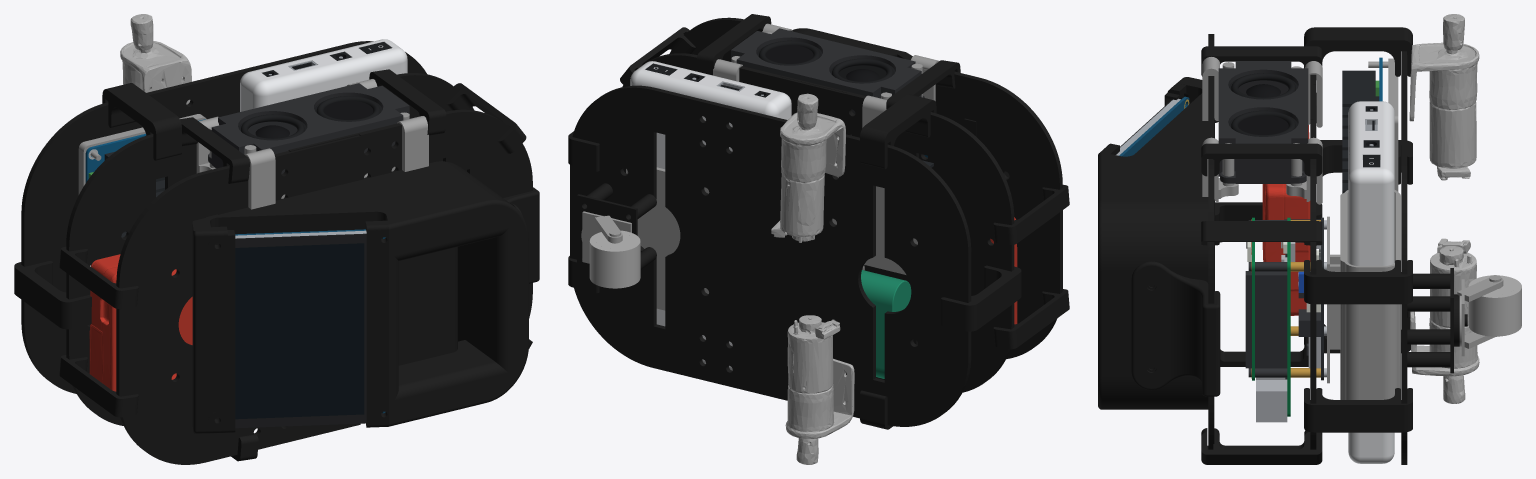
The model's file is chassis_diff_wheel_robot.obj.
The picture shows the model from 3 angles, left to right: view 1: azimuth 30°, elevation 25°; view 2: azimuth 150°, elevation 25°; view 3: azimuth 270°, elevation 25°; orthographic projection. The views are drawn at different scales.
Visible parts, largest first — view 1: 04_Sede_interna_e_battuta_display, Piano_sensori_01, Area_visibile_STIMATA, Piano_sensori_02, Piano_chassis_02, Piano_chassis_03, Guscio_con_due_aperture, Guscio_raccordato_R6_INDICATIVO, Azionamento_mesh_02, Modulo_importato_mesh_03, Distanziale_interpiano_corpo_01, Bande_nere (1) (+18 smaller); view 2: Piano_sensori_03, Piano_sensori_02, Piano_sensori_01, Piano_chassis_02, Azionamento_mesh_01, Azionamento_mesh_02, Guscio_con_due_aperture, Guscio_raccordato_R6_INDICATIVO, Distanziale_interpiano_corpo_01, Distanziale_interpiano_corpo_01:2, Piano_chassis_01, Corpo1:1 (+20 smaller); view 3: 04_Sede_interna_e_battuta_display, Supporto_RealSense_corpo_06, Guscio_raccordato_R6_INDICATIVO, Azionamento_mesh_02, Corpo1:1, Guscio_con_due_aperture, Azionamento_mesh_01, Distanziale_interpiano_corpo_01:4, Distanziale_interpiano_corpo_01:3, Piastra_35_5x41_con_4_distanziali_e_fori_D3_2, Distanziale_interpiano_corpo_01, GPIO_stacking_header_femmina_40_sedi (+31 smaller).
Part boxes in pixels (box(x1,y1,x2,y2)): 04_Sede_interna_e_battuta_display: box(192, 161, 528, 433); Piano_sensori_01: box(116, 135, 360, 464); Area_visibile_STIMATA: box(235, 243, 364, 419); Piano_sensori_02: box(21, 65, 265, 393); Piano_chassis_02: box(66, 134, 196, 425); Piano_chassis_03: box(288, 109, 532, 318); Guscio_con_due_aperture: box(211, 83, 409, 174); Guscio_raccordato_R6_INDICATIVO: box(240, 39, 407, 111); Azionamento_mesh_02: box(120, 14, 191, 104); Modulo_importato_mesh_03: box(89, 254, 192, 391); Distanziale_interpiano_corpo_01: box(102, 83, 181, 160); Bande_nere (1): box(235, 233, 366, 428); Piano_sensori_03: box(570, 85, 802, 400); Piano_sensori_02: box(738, 108, 971, 426); Piano_sensori_01: box(851, 71, 1062, 359); Piano_chassis_02: box(780, 75, 1014, 392); Azionamento_mesh_01: box(785, 315, 854, 464); Azionamento_mesh_02: box(771, 93, 845, 242); Guscio_con_due_aperture: box(731, 28, 921, 113); Guscio_raccordato_R6_INDICATIVO: box(630, 61, 791, 370); Distanziale_interpiano_corpo_01: box(860, 94, 936, 168); Distanziale_interpiano_corpo_01:2: box(941, 265, 1021, 331); Piano_chassis_01: box(622, 53, 846, 172); Corpo1:1: box(626, 167, 709, 310); 04_Sede_interna_e_battuta_display: box(1098, 77, 1214, 409); Supporto_RealSense_corpo_06: box(1131, 261, 1220, 396); Guscio_raccordato_R6_INDICATIVO: box(1348, 101, 1394, 463); Azionamento_mesh_02: box(1409, 14, 1479, 180); Corpo1:1: box(1340, 190, 1400, 399); Guscio_con_due_aperture: box(1218, 61, 1308, 183); Azionamento_mesh_01: box(1410, 238, 1479, 403); Distanziale_interpiano_corpo_01:4: box(1304, 260, 1412, 304); Distanziale_interpiano_corpo_01:3: box(1304, 388, 1412, 432); Piastra_35_5x41_con_4_distanziali_e_fori_D3_2: box(1407, 268, 1467, 373); Distanziale_interpiano_corpo_01: box(1304, 27, 1412, 76); GPIO_stacking_header_femmina_40_sedi: box(1255, 271, 1282, 368).
Bounding box in the file's own units: 24.78 × 20.93 × 21.
